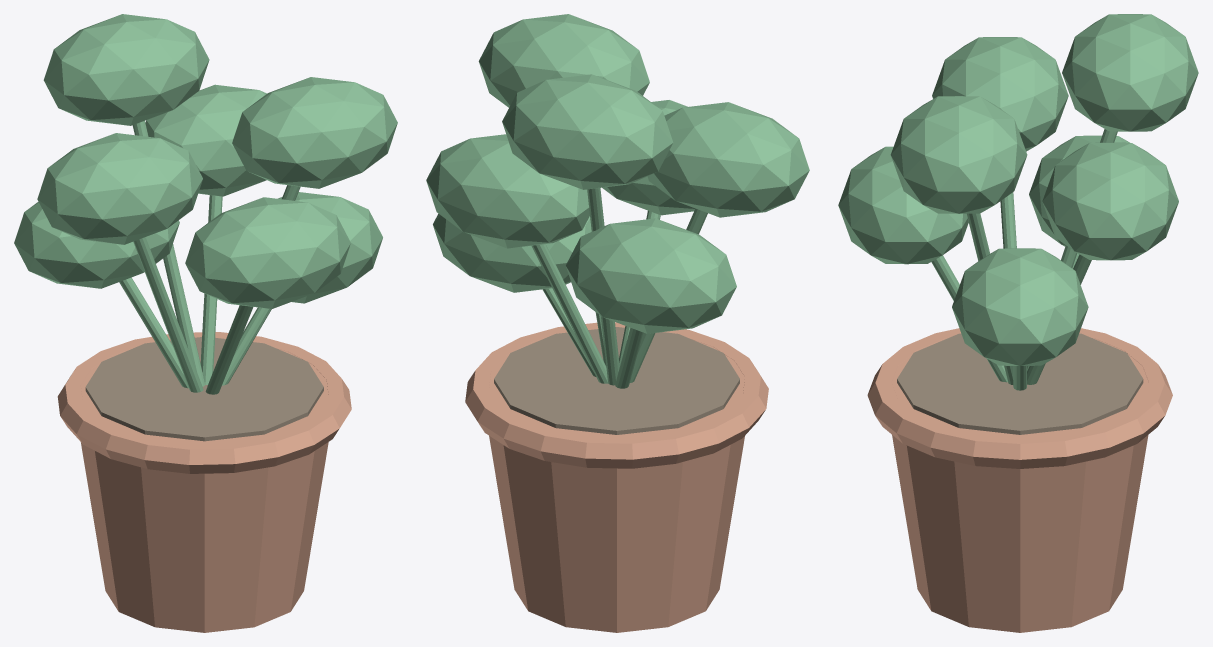
File: potted_plant.glb
3 views of the same model, side by side, from view 1: azimuth 30°, elevation 25°; view 2: azimuth 150°, elevation 25°; view 3: azimuth 270°, elevation 25° (orthographic). The views are drawn at different scales.
Visible parts, largest first — view 1: potted_plant_000, potted_plant_002, potted_plant_008, potted_plant_012, potted_plant_016, potted_plant_014, potted_plant_001, potted_plant_010, potted_plant_006, potted_plant_004, potted_plant_011, potted_plant_015 (+4 smaller); view 2: potted_plant_000, potted_plant_002, potted_plant_016, potted_plant_006, potted_plant_012, potted_plant_001, potted_plant_010, potted_plant_014, potted_plant_004, potted_plant_009, potted_plant_008, potted_plant_015 (+3 smaller); view 3: potted_plant_000, potted_plant_002, potted_plant_001, potted_plant_010, potted_plant_014, potted_plant_016, potted_plant_004, potted_plant_012, potted_plant_008, potted_plant_006, potted_plant_013, potted_plant_007 (+2 smaller).
Boxes of the visible parts, x1,y1,x2,y2 form: potted_plant_000: [81, 349, 328, 632]; potted_plant_002: [85, 337, 323, 441]; potted_plant_008: [185, 197, 350, 308]; potted_plant_012: [37, 133, 202, 244]; potted_plant_016: [43, 14, 209, 125]; potted_plant_014: [232, 77, 397, 188]; potted_plant_001: [57, 332, 351, 473]; potted_plant_010: [145, 84, 266, 196]; potted_plant_006: [14, 201, 179, 288]; potted_plant_004: [278, 192, 382, 303]; potted_plant_011: [133, 237, 203, 392]; potted_plant_015: [132, 120, 204, 386]; potted_plant_000: [489, 340, 744, 632]; potted_plant_002: [494, 327, 739, 434]; potted_plant_016: [502, 74, 673, 189]; potted_plant_006: [565, 218, 736, 333]; potted_plant_012: [647, 102, 809, 217]; potted_plant_001: [465, 322, 768, 468]; potted_plant_010: [426, 134, 589, 248]; potted_plant_014: [478, 14, 649, 107]; potted_plant_004: [433, 213, 591, 292]; potted_plant_009: [531, 244, 608, 383]; potted_plant_008: [602, 100, 695, 215]; potted_plant_015: [587, 188, 619, 385]; potted_plant_000: [891, 338, 1148, 632]; potted_plant_002: [897, 333, 1143, 434]; potted_plant_001: [867, 328, 1172, 468]; potted_plant_010: [1042, 142, 1178, 260]; potted_plant_014: [890, 96, 1027, 213]; potted_plant_016: [1062, 14, 1198, 131]; potted_plant_004: [952, 248, 1088, 365]; potted_plant_012: [932, 37, 1068, 151]; potted_plant_008: [838, 146, 968, 264]; potted_plant_006: [1029, 135, 1129, 246]; potted_plant_013: [966, 213, 1013, 384]; potted_plant_007: [931, 255, 1007, 382].
Size of the model in its own units: 0.8766 by 1.34 by 0.7905.
